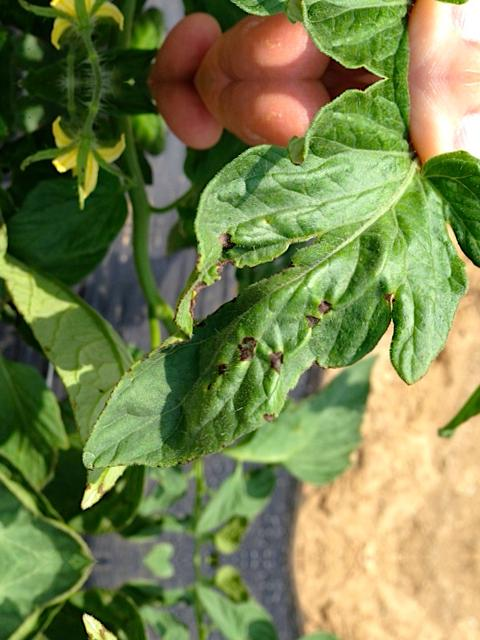Tomato leaf bacterial spot: (68, 90, 480, 471)
